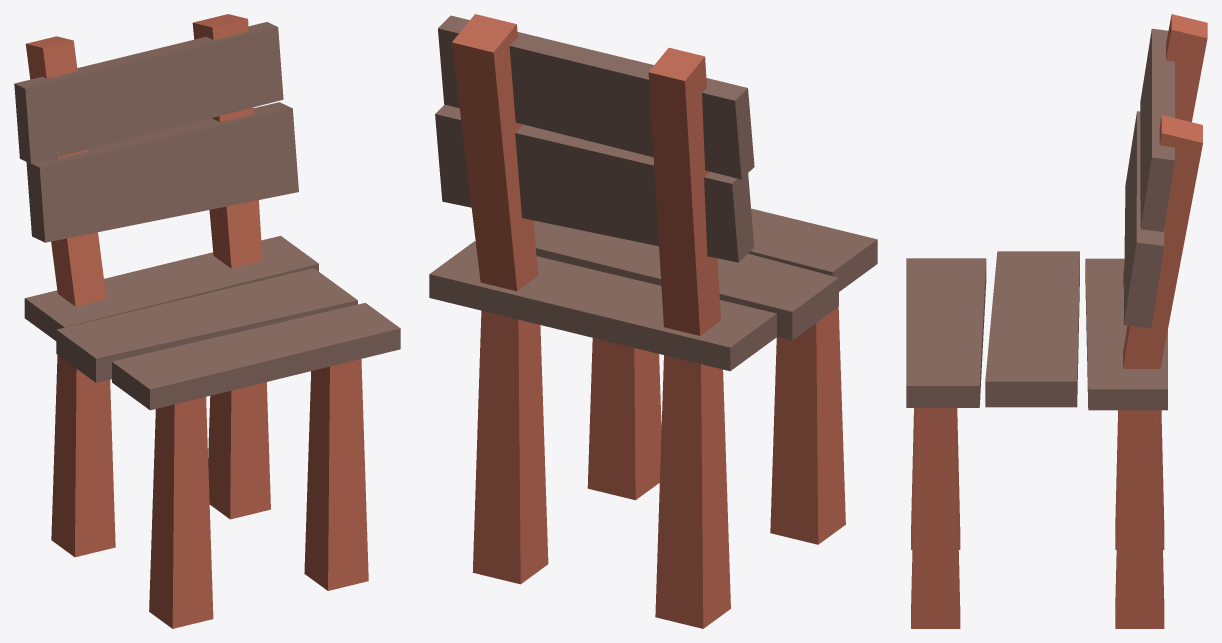
Rendered from animal_017.glb.
The picture shows the model from 3 angles, left to right: view 1: azimuth 30°, elevation 25°; view 2: azimuth 150°, elevation 25°; view 3: azimuth 270°, elevation 25°; orthographic projection. The views are drawn at different scales.
Parts seen in each view (by area): view 1: animal_017; view 2: animal_017; view 3: animal_017.
Part boxes in pixels (bbox=[...]): animal_017: bbox=[14, 14, 400, 628]; animal_017: bbox=[429, 14, 877, 628]; animal_017: bbox=[906, 14, 1207, 628].
Size of the model in its own units: 1.17 by 2.05 by 1.09.
Materials: 1 (1 with a texture image).
